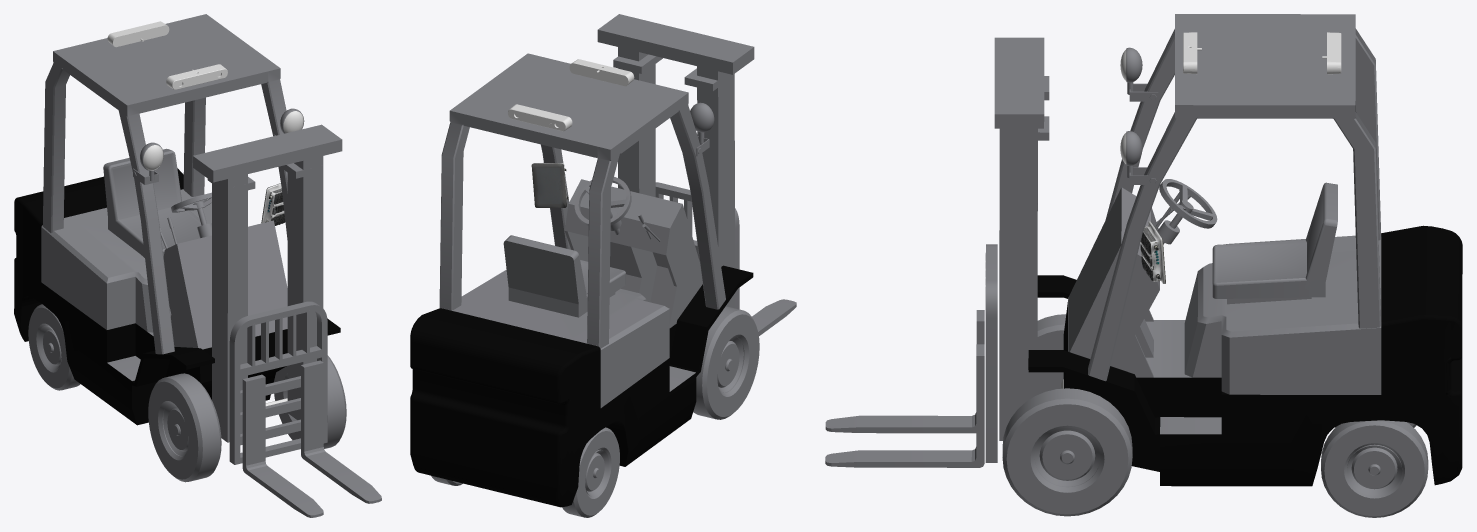
The model's file is Forklift.glb.
3 views of the same model, side by side, from view 1: azimuth 30°, elevation 25°; view 2: azimuth 150°, elevation 25°; view 3: azimuth 270°, elevation 25° (orthographic). The views are drawn at different scales.
Parts seen in each view (by area): view 1: ForkliftRoof, Cube_3_2, Cube_12_2_2, Cube_3, ForkliftConsolePanel, Cube_13_2, Tube, Cube_12, Sweep, Cube_6, Cube_4, Tube_2 (+12 smaller); view 2: Cube_3_2, ForkliftRoof, Cube_3, ForkliftConsolePanel, Cube_12_2_2, Cube_12, Tube, Cube_6, Tube_2, Cube_4, Neousys, Cylinder_2 (+8 smaller); view 3: Cube_3_2, ForkliftRoof, Cube_3, Tube, Cube_12_2_2, ForkliftConsolePanel, Cube_13_2, Tube_2, Cube_4, Cube_12, Cylinder_2, Sweep (+5 smaller).
Part boxes in pixels (x1,y1,x2,y2): ForkliftRoof: (43,14,287,354); Cube_3_2: (14,168,340,425); Cube_12_2_2: (212,156,323,442); Cube_3: (41,189,211,332); ForkliftConsolePanel: (163,220,287,349); Cube_13_2: (242,360,381,517); Tube: (148,355,346,482); Cube_12: (193,124,342,182); Sweep: (229,301,327,464); Cube_6: (103,148,181,222); Cube_4: (108,207,201,257); Tube_2: (28,304,80,390); Cube_3_2: (410,265,753,507); ForkliftRoof: (439,53,725,348); Cube_3: (442,269,669,407); ForkliftConsolePanel: (564,179,702,327); Cube_12_2_2: (618,47,734,308); Cube_12: (597,14,754,74); Tube: (693,306,759,419); Cube_6: (503,235,587,304); Tube_2: (431,427,619,517); Cube_4: (508,259,625,317); Neousys: (531,163,568,207); Cylinder_2: (717,337,743,392); Cube_3_2: (1028,225,1462,486); ForkliftRoof: (1088,14,1381,381); Cube_3: (1184,235,1381,394); Tube: (1002,314,1132,516); Cube_12_2_2: (999,128,1037,440); ForkliftConsolePanel: (1068,187,1159,377); Cube_13_2: (825,310,984,467); Tube_2: (1321,420,1428,517); Cube_4: (1212,240,1325,298); Cube_12: (994,37,1044,128); Cylinder_2: (1034,372,1100,486); Sweep: (985,244,997,462).
Bounding box in the file's own units: 1.11 × 2.32 × 3.11.
Materials: 4 (1 with a texture image).
